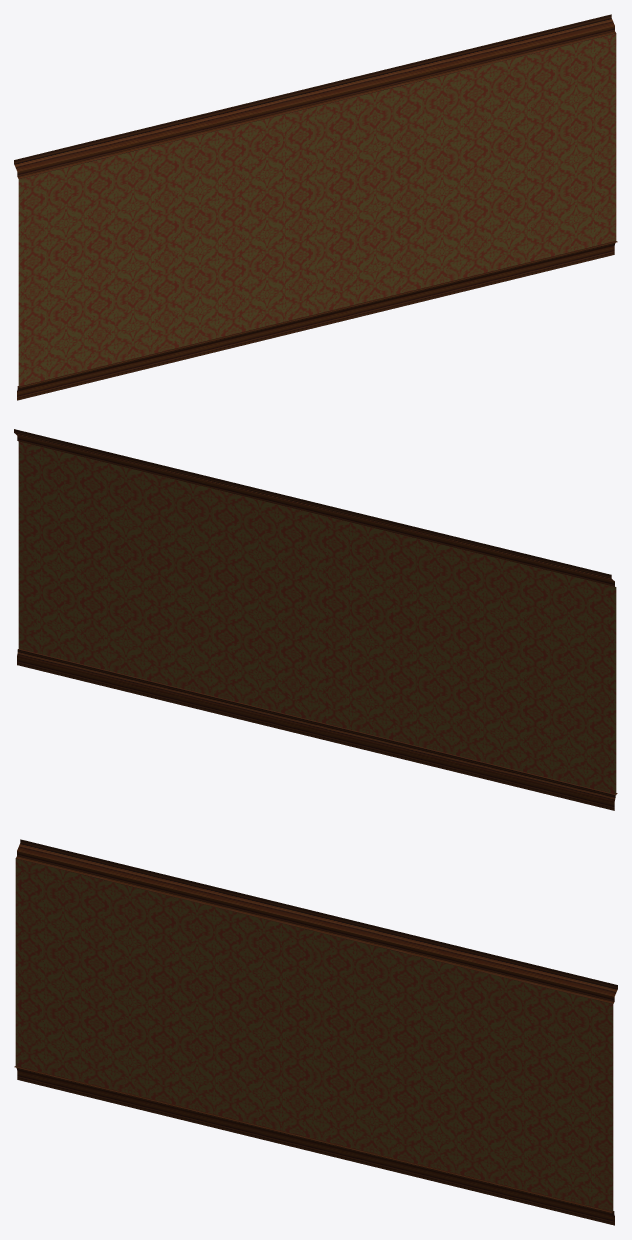
The model's file is WallPlain_long.fbx.
3 renders of one model, top to bottom at view 1: azimuth 30°, elevation 25°; view 2: azimuth 150°, elevation 25°; view 3: azimuth 330°, elevation 25°, orthographic.
Parts seen in each view (by area): view 1: WallSmoothLong; view 2: WallSmoothLong; view 3: WallSmoothLong.
Boxes of the visible parts, box(x1,y1,x2,y2) form: WallSmoothLong: box(14, 14, 617, 400); WallSmoothLong: box(14, 429, 617, 810); WallSmoothLong: box(14, 839, 617, 1225).
Size of the model in its own units: 739 by 281 by 13.47.
